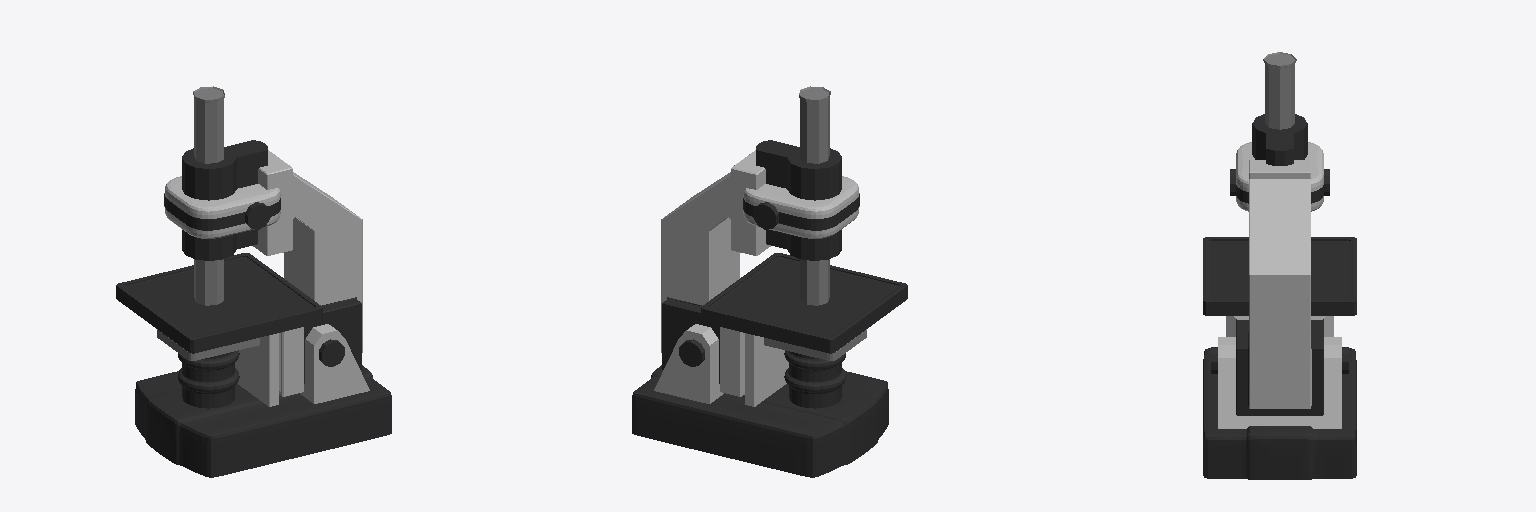
File: Microscope.obj
3 views of the same model, side by side, from view 1: azimuth 30°, elevation 25°; view 2: azimuth 150°, elevation 25°; view 3: azimuth 270°, elevation 25° (orthographic).
Visible parts, largest first — view 1: base_Cube, stem_Cube.002, dish_Cube.004, slider_Cylinder.002, slider_case_Cube.006, sight_Cylinder.005, stem_brace_Cube.001, light_Cylinder.001, light_plate_Cube.005, adjust_2_Cylinder.003, adjust_1_Cylinder.004; view 2: base_Cube, stem_Cube.002, dish_Cube.004, slider_Cylinder.002, slider_case_Cube.006, sight_Cylinder.005, stem_brace_Cube.001, light_Cylinder.001, light_plate_Cube.005, adjust_2_Cylinder.003, adjust_1_Cylinder.004; view 3: stem_Cube.002, base_Cube, dish_Cube.004, stem_brace_Cube.001, sight_Cylinder.005, slider_Cylinder.002, slider_case_Cube.006.
Boxes of the visible parts, <box> form: base_Cube: <box>135,365,391,477</box>; stem_Cube.002: <box>235,150,362,406</box>; dish_Cube.004: <box>116,253,322,353</box>; slider_Cylinder.002: <box>182,140,267,260</box>; slider_case_Cube.006: <box>164,176,280,238</box>; sight_Cylinder.005: <box>193,86,224,305</box>; stem_brace_Cube.001: <box>300,324,369,403</box>; light_Cylinder.001: <box>178,350,239,408</box>; light_plate_Cube.005: <box>157,329,259,360</box>; adjust_2_Cylinder.003: <box>319,339,344,366</box>; adjust_1_Cylinder.004: <box>245,202,270,229</box>; base_Cube: <box>632,365,888,477</box>; stem_Cube.002: <box>661,150,788,406</box>; dish_Cube.004: <box>701,253,907,353</box>; slider_Cylinder.002: <box>756,140,841,260</box>; slider_case_Cube.006: <box>743,176,859,238</box>; sight_Cylinder.005: <box>799,86,830,305</box>; stem_brace_Cube.001: <box>654,324,723,403</box>; light_Cylinder.001: <box>784,350,845,408</box>; light_plate_Cube.005: <box>764,329,866,360</box>; adjust_2_Cylinder.003: <box>679,339,704,366</box>; adjust_1_Cylinder.004: <box>753,202,778,229</box>; stem_Cube.002: <box>1226,160,1333,415</box>; base_Cube: <box>1203,348,1356,479</box>; dish_Cube.004: <box>1203,237,1356,315</box>; stem_brace_Cube.001: <box>1218,337,1341,428</box>; sight_Cylinder.005: <box>1263,52,1296,129</box>; slider_Cylinder.002: <box>1252,114,1307,165</box>; slider_case_Cube.006: <box>1236,142,1323,211</box>.
Bounding box in the file's own units: 3.1 × 5 × 2.